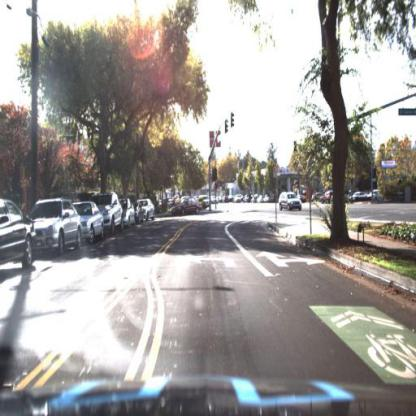car: (37, 195, 84, 261), (1, 199, 38, 279), (80, 198, 105, 242), (105, 192, 126, 237), (170, 195, 205, 220), (277, 188, 306, 215), (123, 197, 138, 230), (146, 194, 160, 225), (136, 196, 146, 228), (200, 191, 216, 210), (350, 190, 368, 204)
